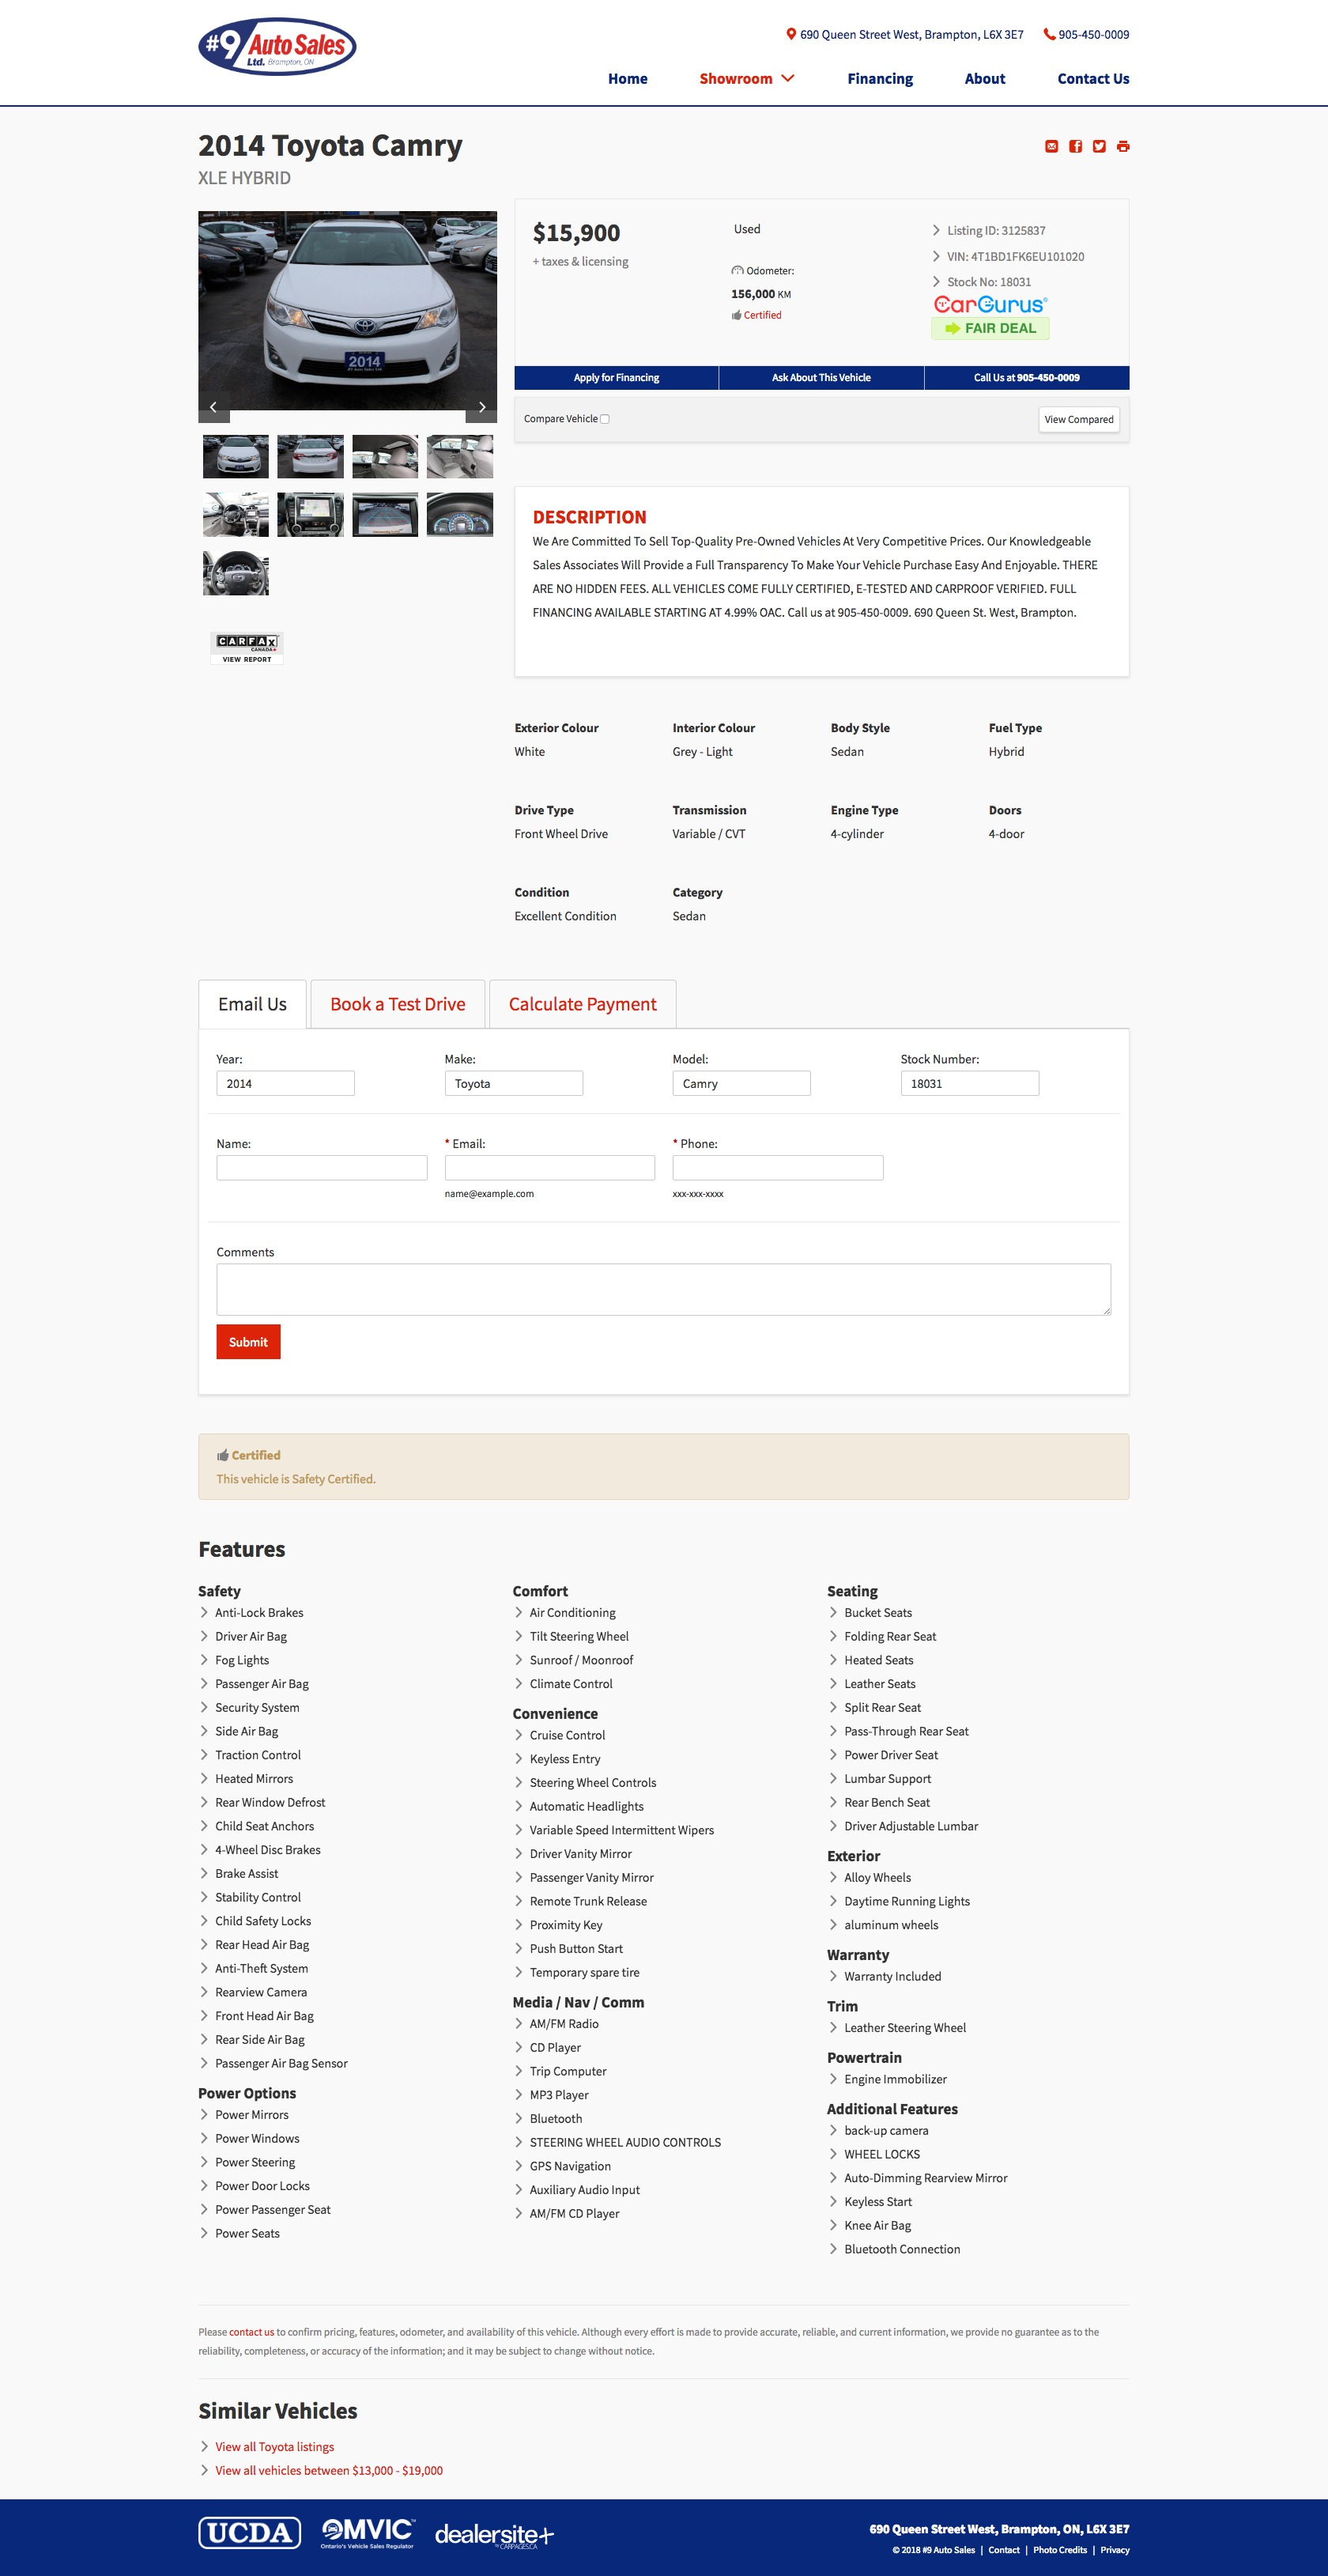car: (466, 393, 501, 428)
